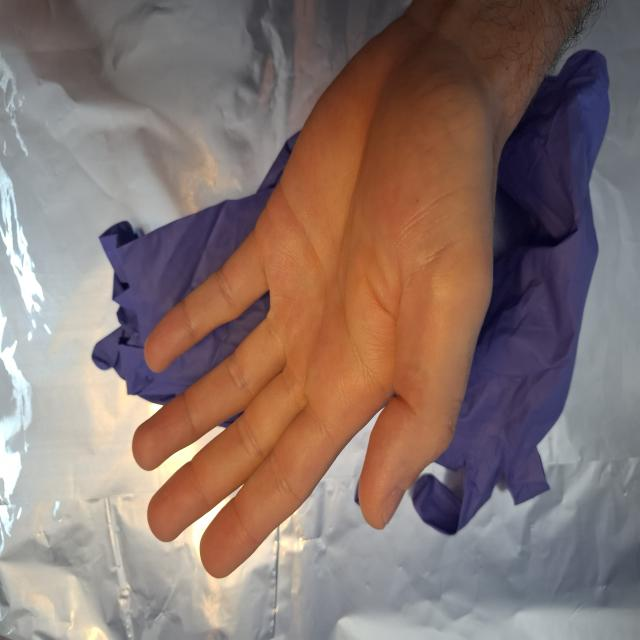glove_off: (130, 4, 542, 580)
